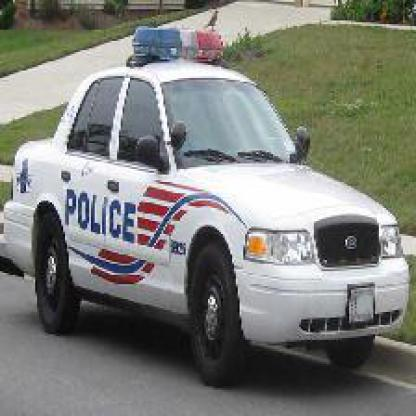emergency: (15, 20, 408, 379)
